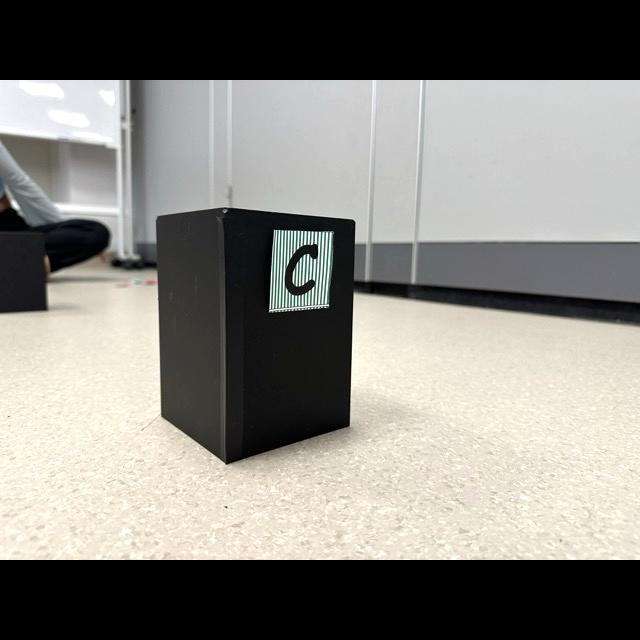C: (285, 244, 318, 296)
